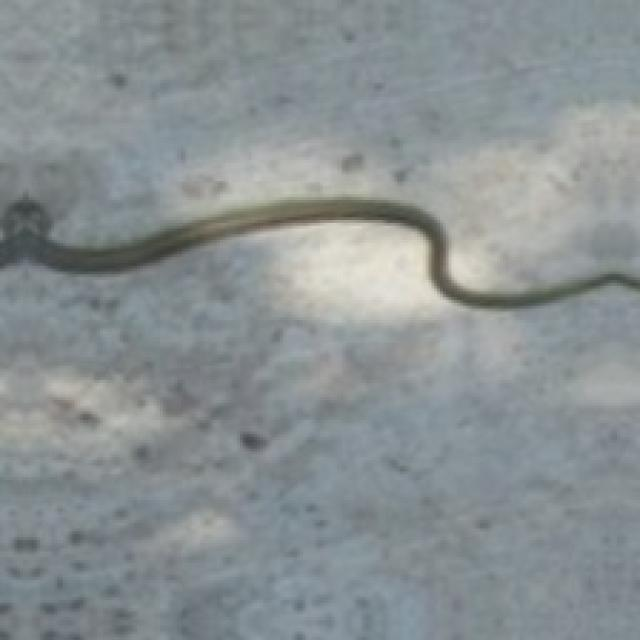philippine bronzeback treesnake: (0, 197, 637, 306)
